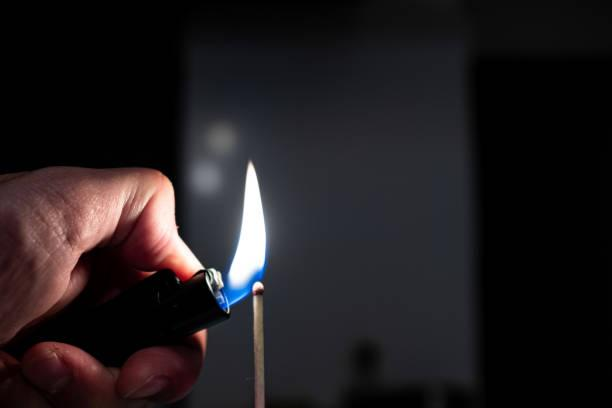Fire: (234, 159, 263, 284)
